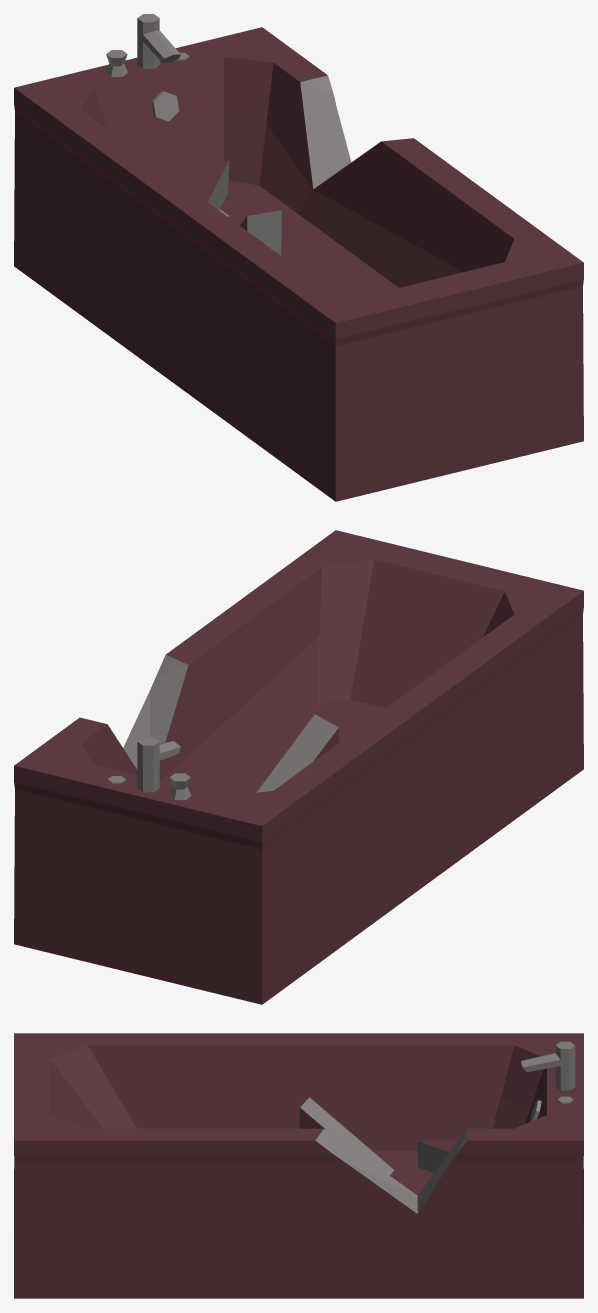
Rendered from bath-broken.fbx.
3 renders of one model, top to bottom at view 1: azimuth 30°, elevation 25°; view 2: azimuth 150°, elevation 25°; view 3: azimuth 270°, elevation 25°, orthographic. The views are drawn at different scales.
Visible parts, largest first — view 1: bath-broken; view 2: bath-broken; view 3: bath-broken.
Part boxes in pixels (<box>): bath-broken: <box>14,14,583,501</box>; bath-broken: <box>14,530,583,1004</box>; bath-broken: <box>14,1033,583,1298</box>.
Bounding box in the file's own units: 0.7998 × 0.6943 × 1.8.
